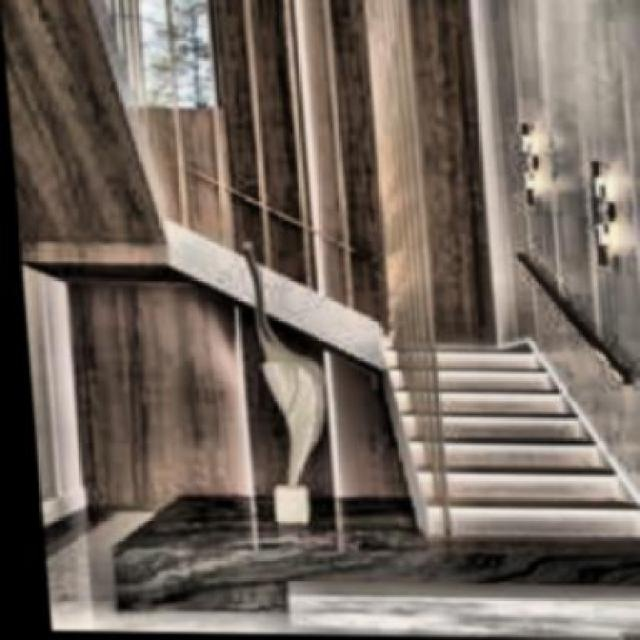stair: (349, 337, 640, 555)
